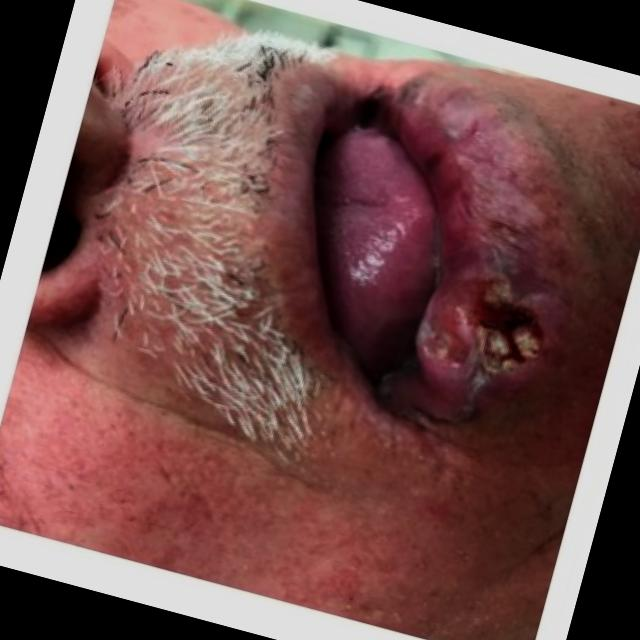Cancer: (396, 66, 626, 442), (289, 32, 472, 248)
